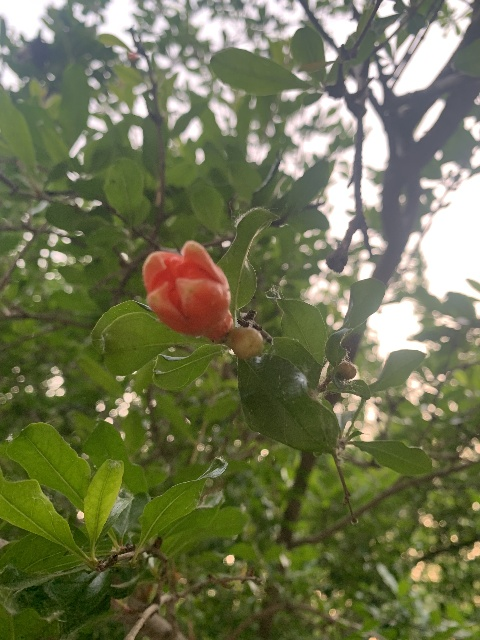bud: (226, 327, 263, 359)
flower: (142, 239, 233, 343)
